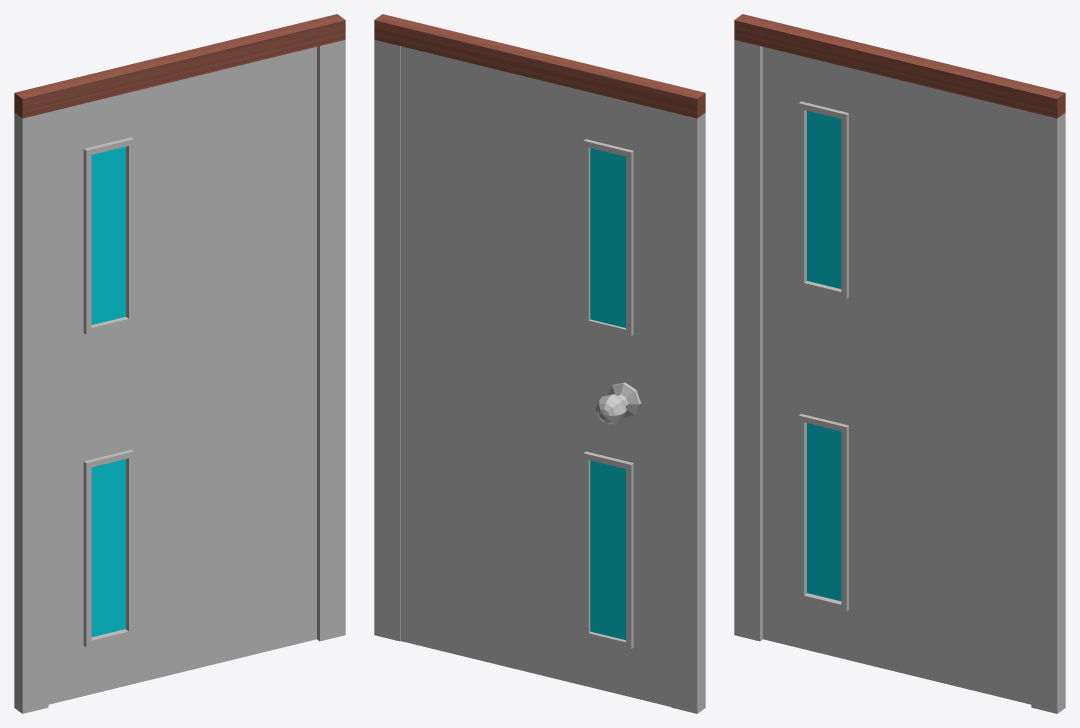
File: Door_Basic.fbx
The picture shows the model from 3 angles, left to right: view 1: azimuth 30°, elevation 25°; view 2: azimuth 150°, elevation 25°; view 3: azimuth 330°, elevation 25°; orthographic projection.
Visible parts, largest first — view 1: door, doorframe; view 2: door, doorframe; view 3: door, doorframe.
Part boxes in pixels (x1,y1,x2,y2): door: (48, 47, 316, 704); doorframe: (14, 14, 345, 713); door: (400, 46, 671, 706); doorframe: (374, 14, 705, 713); door: (763, 47, 1031, 704); doorframe: (734, 14, 1065, 713).
Bounding box in the file's own units: 110 × 200 × 17.42.
